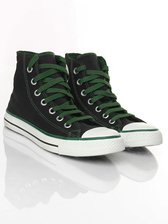shoes: (4, 46, 164, 159)
